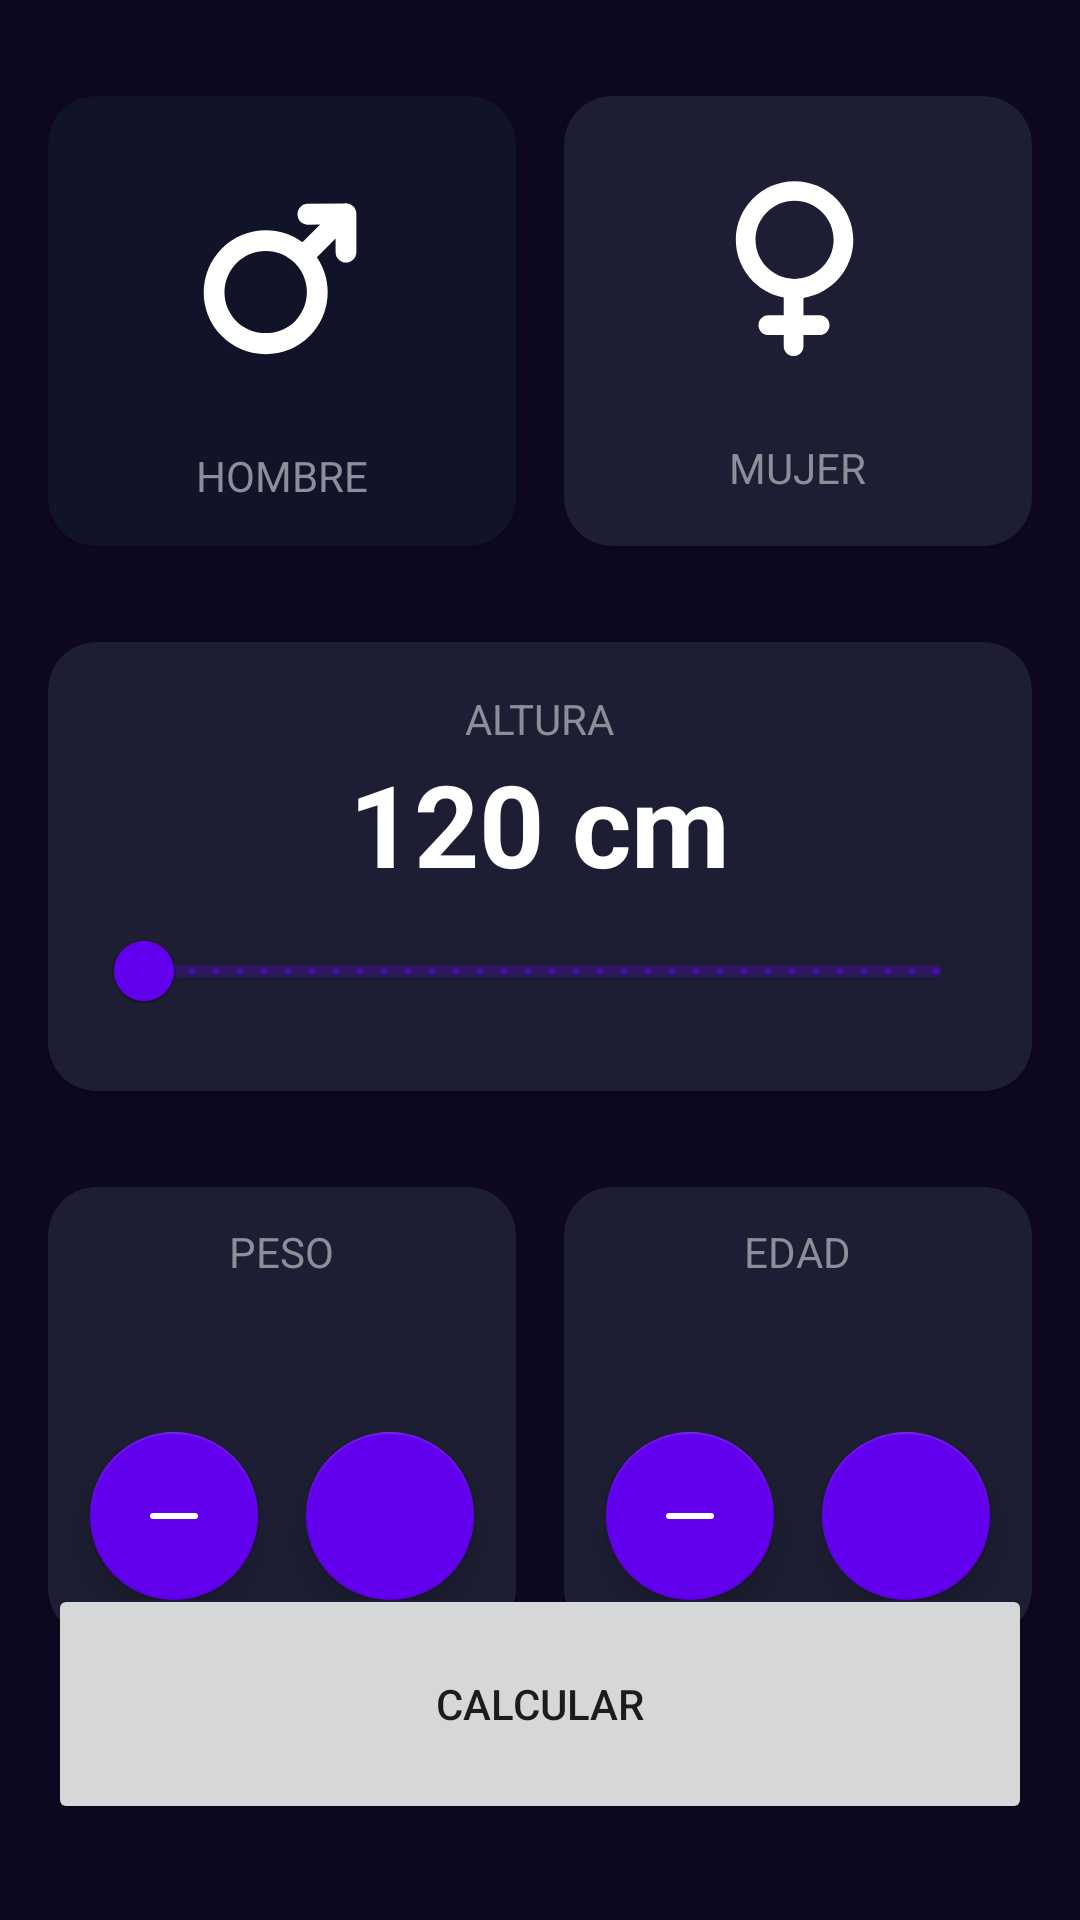

Where to tap for icons on this 1080px x 1920px app screen, as (x,y):
female: (794,268)
male: (280,279)
subtract: (174,1516), (690,1516)
